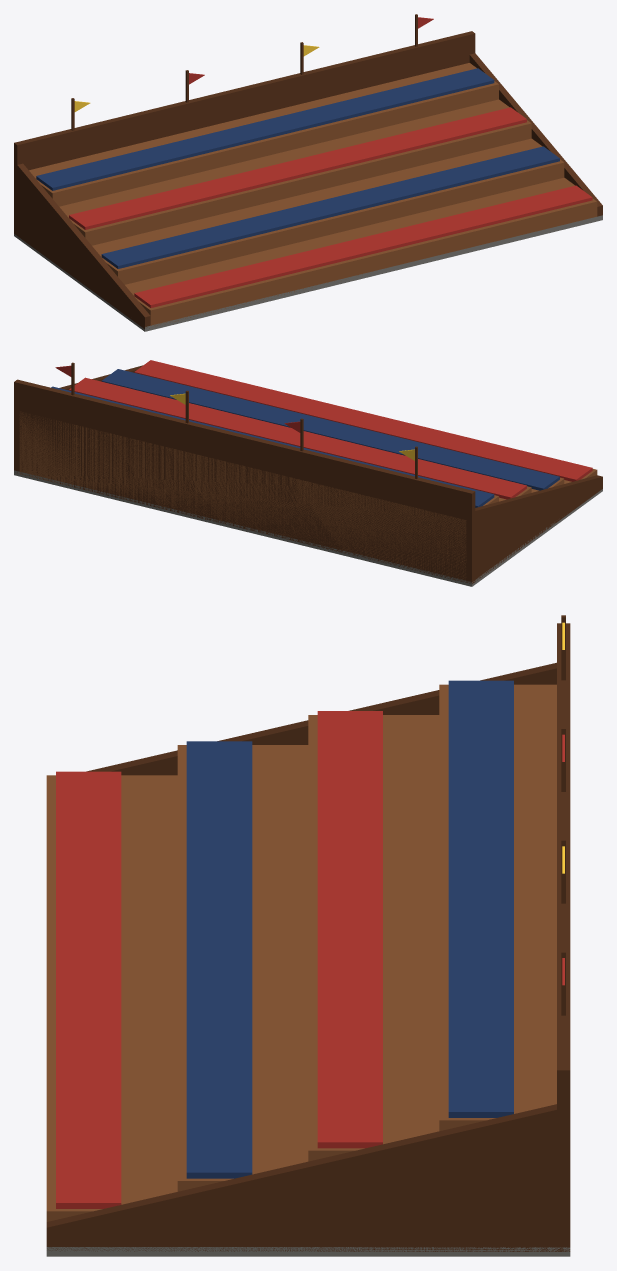
The model's file is stands-4x2.glb.
The picture shows the model from 3 angles, top to bottom: view 1: azimuth 30°, elevation 25°; view 2: azimuth 150°, elevation 25°; view 3: azimuth 270°, elevation 25°; orthographic projection. The views are drawn at different scales.
Visible parts, largest first — view 1: Stands4x2; view 2: Stands4x2; view 3: Stands4x2.
Part boxes in pixels (x1=…): Stands4x2: x1=14, y1=14, x2=602, y2=331; Stands4x2: x1=14, y1=360, x2=602, y2=586; Stands4x2: x1=46, y1=615, x2=570, y2=1256.
Size of the model in its own units: 3.96 by 1.03 by 1.96.
Materials: 1 (1 with a texture image).
